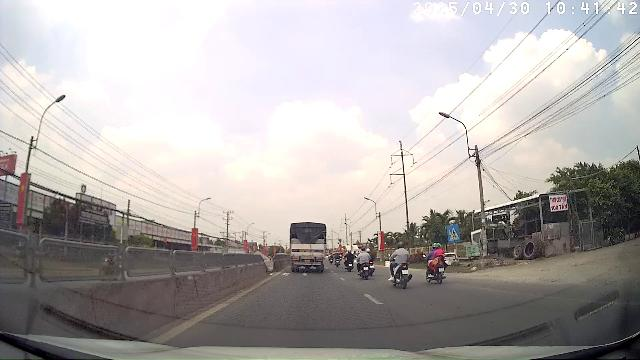302a-huong-phai-di-vong-chuong-ngai-vat-1: (448, 226, 460, 243)
